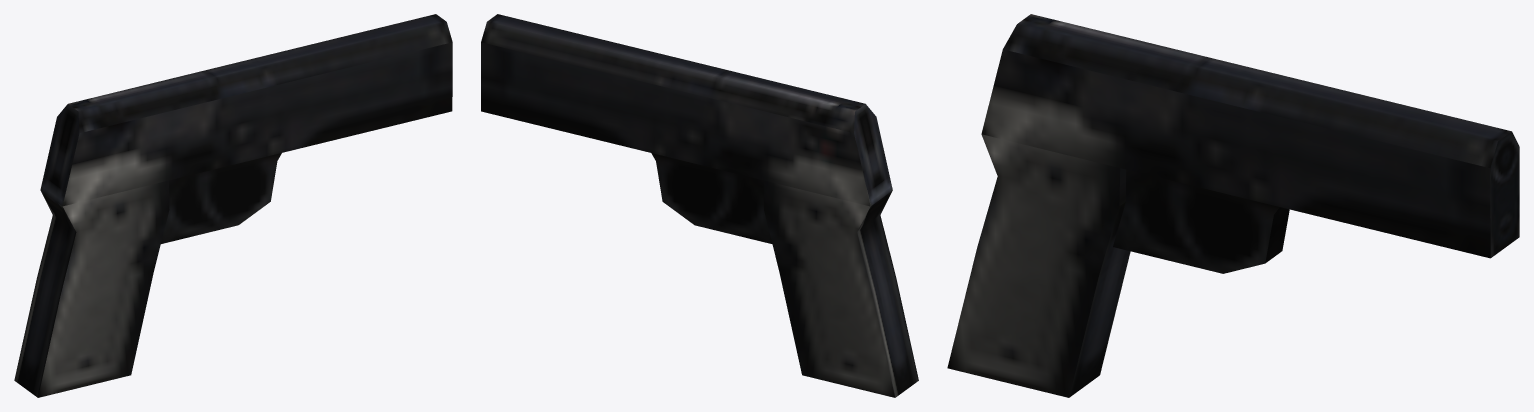
Rendered from SM_Handgun.fbx.
3 views of the same model, side by side, from view 1: azimuth 30°, elevation 25°; view 2: azimuth 150°, elevation 25°; view 3: azimuth 330°, elevation 25° (orthographic). The views are drawn at different scales.
Parts seen in each view (by area): view 1: Handgun; view 2: Handgun; view 3: Handgun.
Boxes of the visible parts, x1=… form: Handgun: x1=14, y1=14, x2=452, y2=397; Handgun: x1=481, y1=14, x2=918, y2=397; Handgun: x1=947, y1=14, x2=1519, y2=397.
Size of the model in its own units: 19.81 by 12.32 by 1.96.
